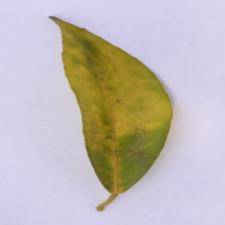Greening: (38, 25, 171, 181)
